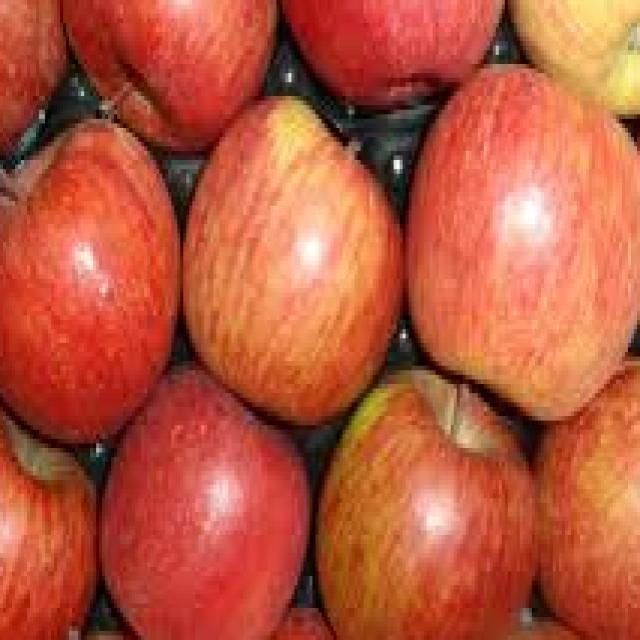inorganic: (169, 68, 424, 445), (398, 32, 634, 408), (318, 349, 545, 636), (8, 124, 195, 446), (110, 358, 305, 631), (55, 9, 302, 132), (0, 416, 122, 634)
